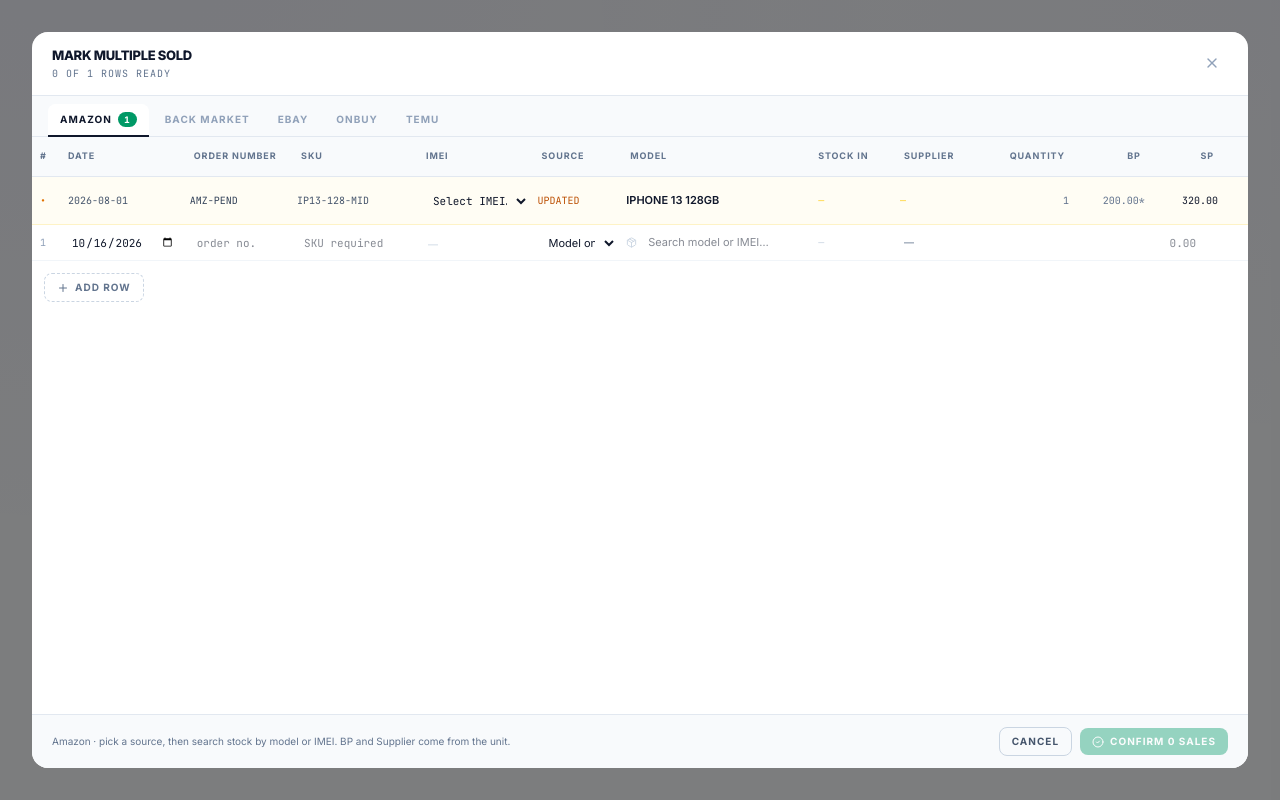
the sale date is the operator's, and it leads the row › fills a waiting row's Stock In once team 2 picks the handset
Expected: the cell does not show "2026-06-01"
Select "350000000000001 · MIDNIGHT · £200.00" in the dropdown named "IMEI for AMZ-PEND" at x=476, y=200, box [422,188,530,214]
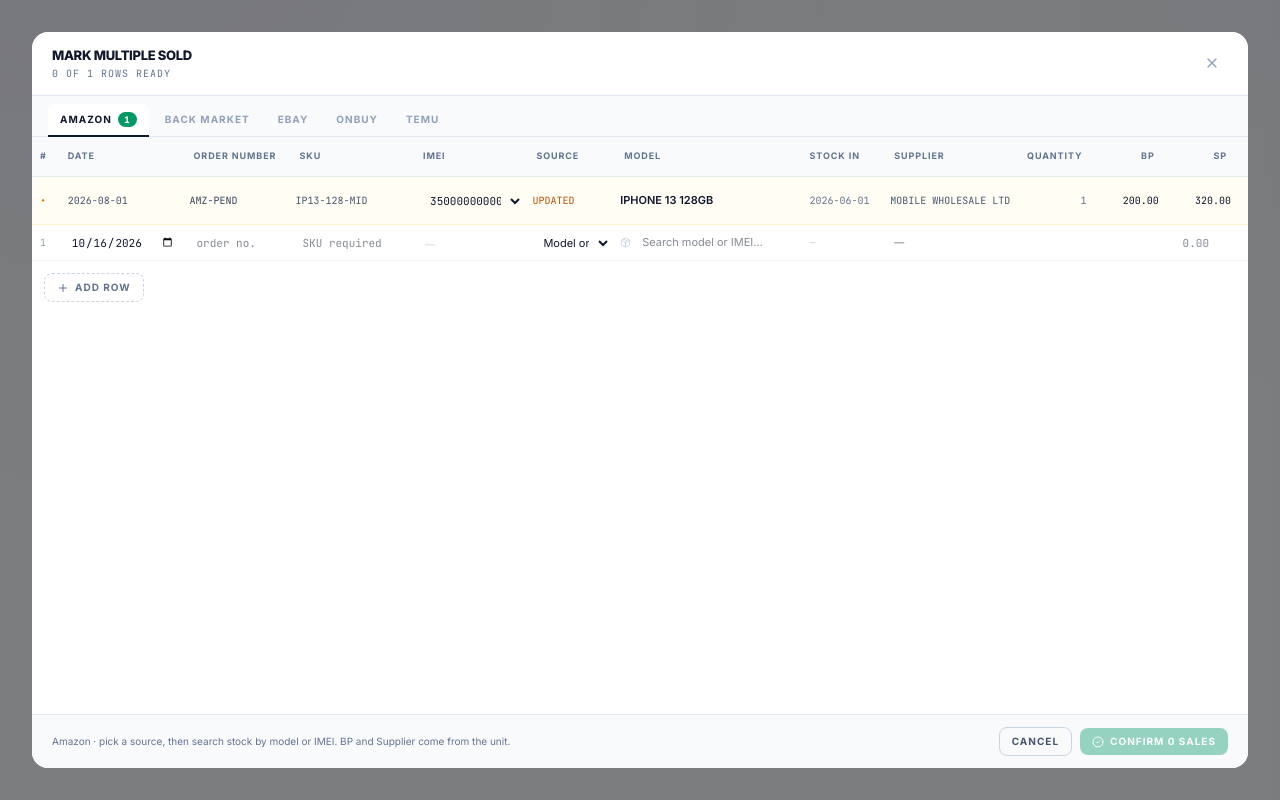
Result: the cell "2026-06-01" is shown at [802,176,886,224]
